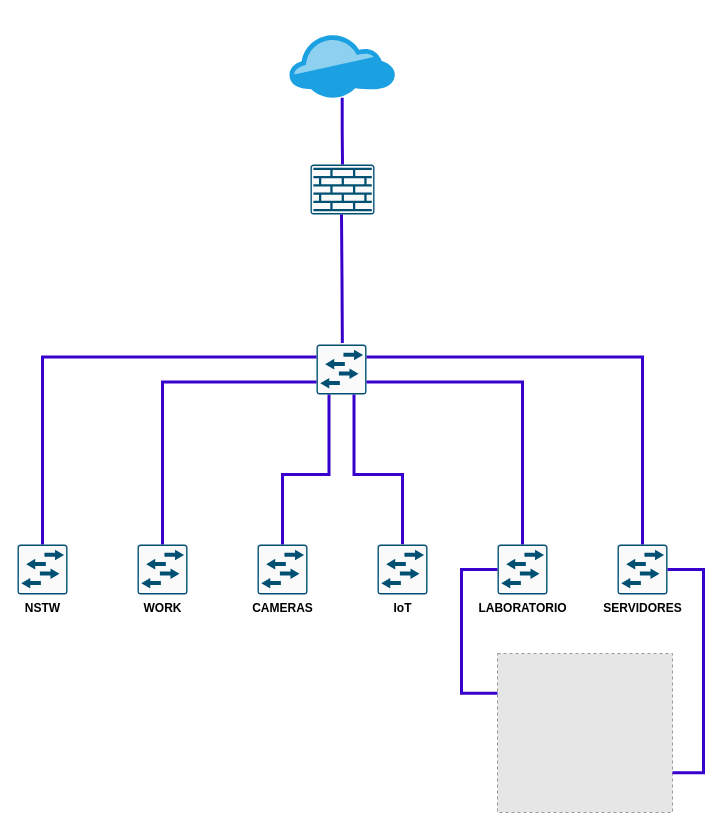
Some shapes in this 723 by 830 pixel diagram are drawn without their labels. Grey dashed boxes stand in for pictures. The centre of each missing label's shape, as x and y in pixels:
PFSENSE: (342,189)
SWITCH L2: (341,369)
